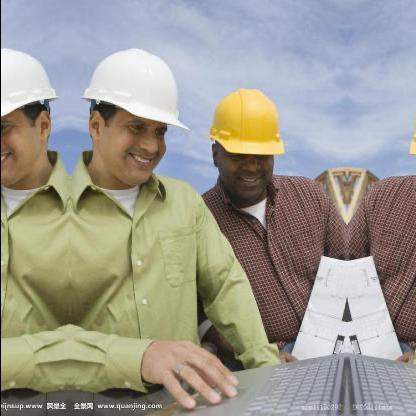Helmet: (72, 38, 188, 194), (195, 72, 292, 204), (0, 38, 65, 195)
